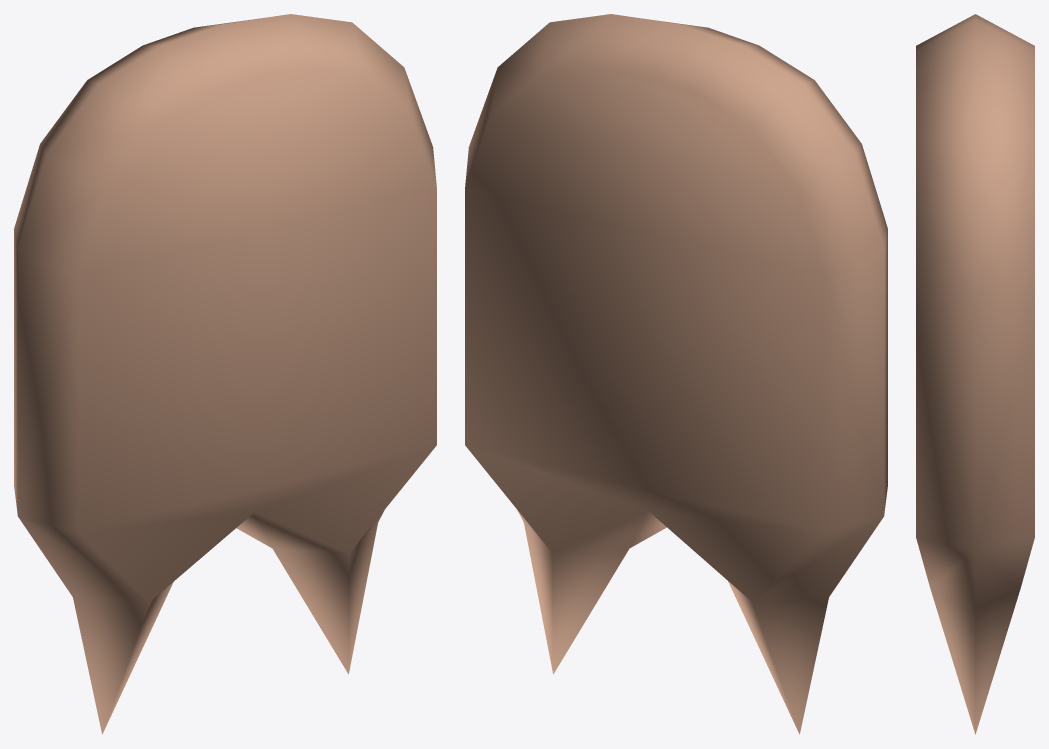
File: BadTooth.obj
3 renders of one model, left to right at view 1: azimuth 30°, elevation 25°; view 2: azimuth 150°, elevation 25°; view 3: azimuth 270°, elevation 25°, orthographic. The views are drawn at different scales.
Parts seen in each view (by area): view 1: Handle; view 2: Handle; view 3: Handle.
Boxes of the visible parts, x1,y1,x2,y2 form: Handle: [14, 14, 436, 734]; Handle: [465, 14, 887, 734]; Handle: [916, 14, 1034, 734].
Size of the model in its own units: 0.188 by 0.2946 by 0.05.
